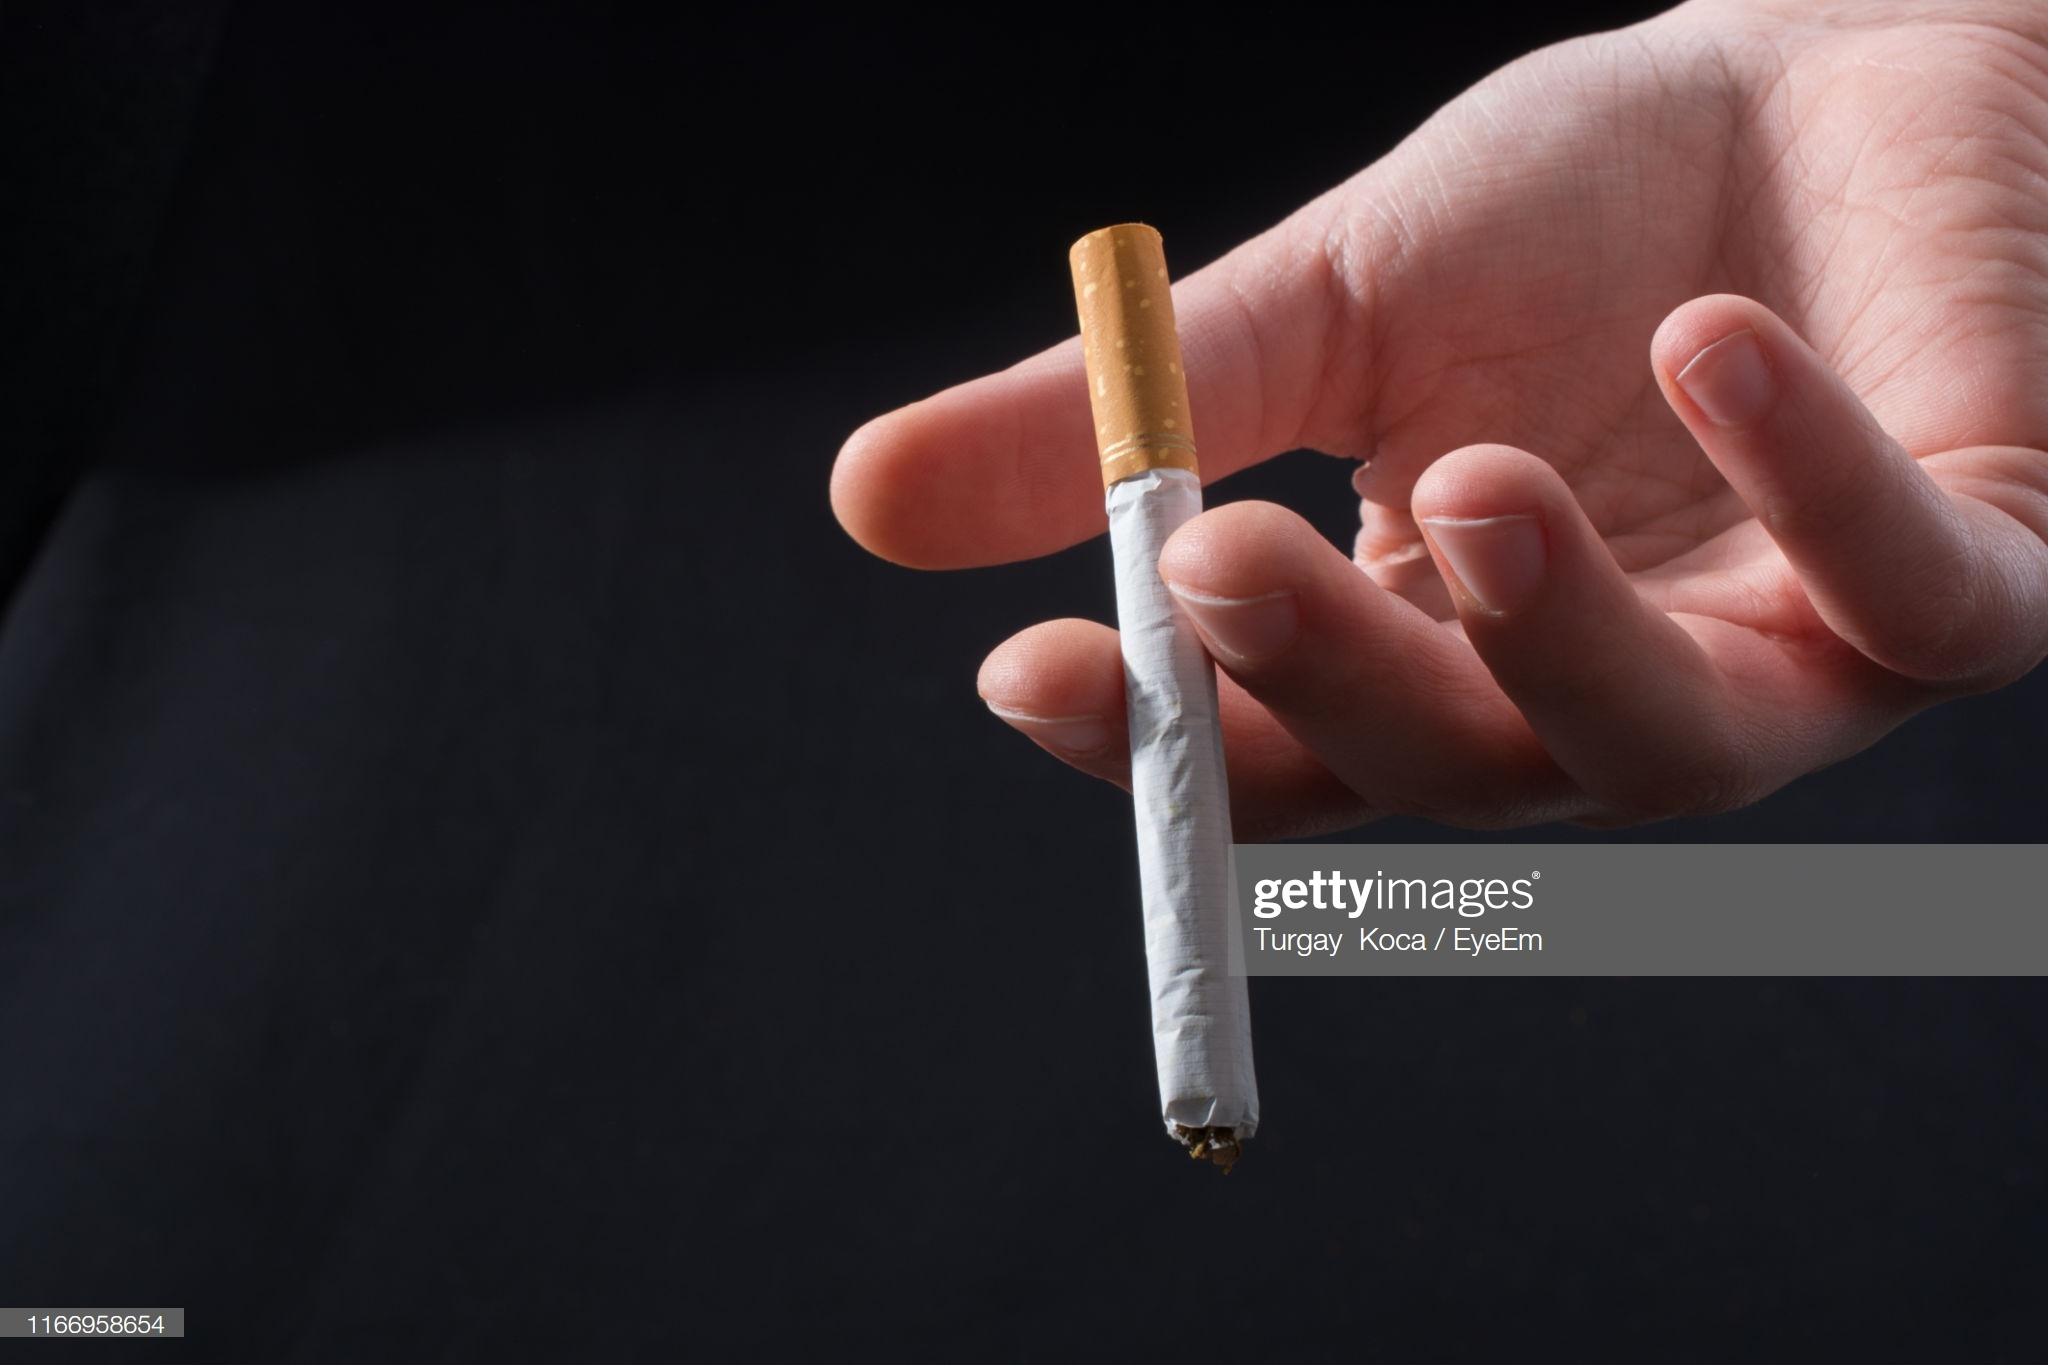sigaretta: (1070, 233, 1273, 1167)
